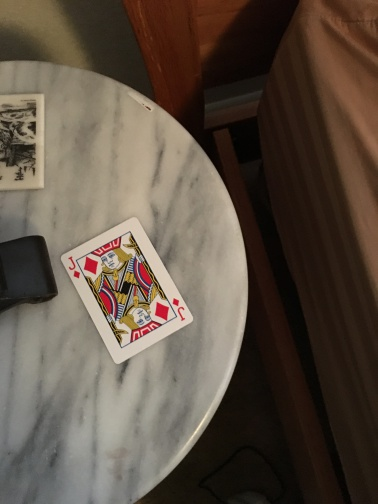jack: (59, 217, 196, 365)
